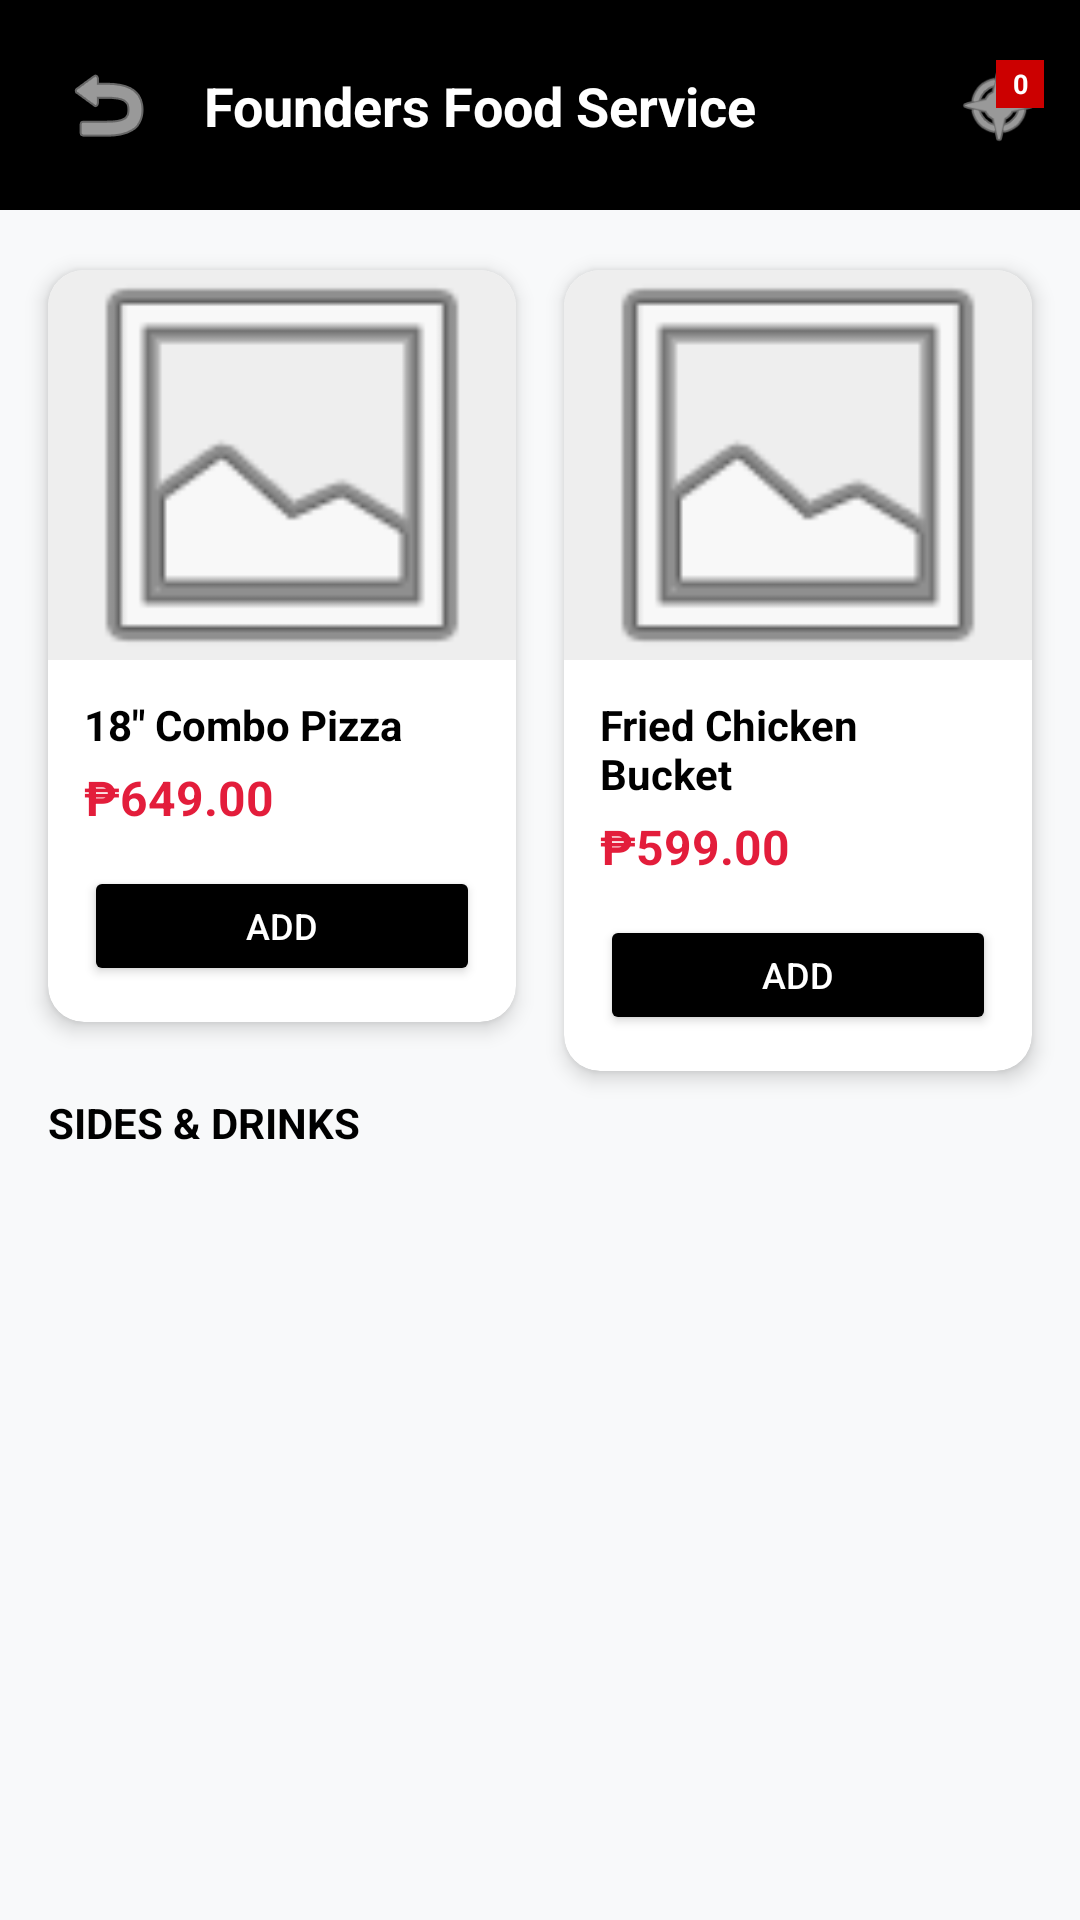

Icon click points for this 1080px x 1920px phone screenshot, format point (x, y):
Back: point (109, 105)
